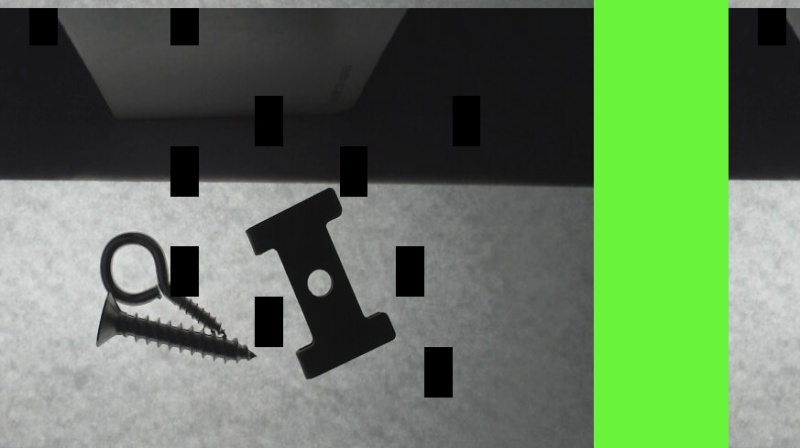O001: (99, 231, 225, 334)
O002: (243, 186, 396, 380)
S001: (94, 292, 257, 362)
